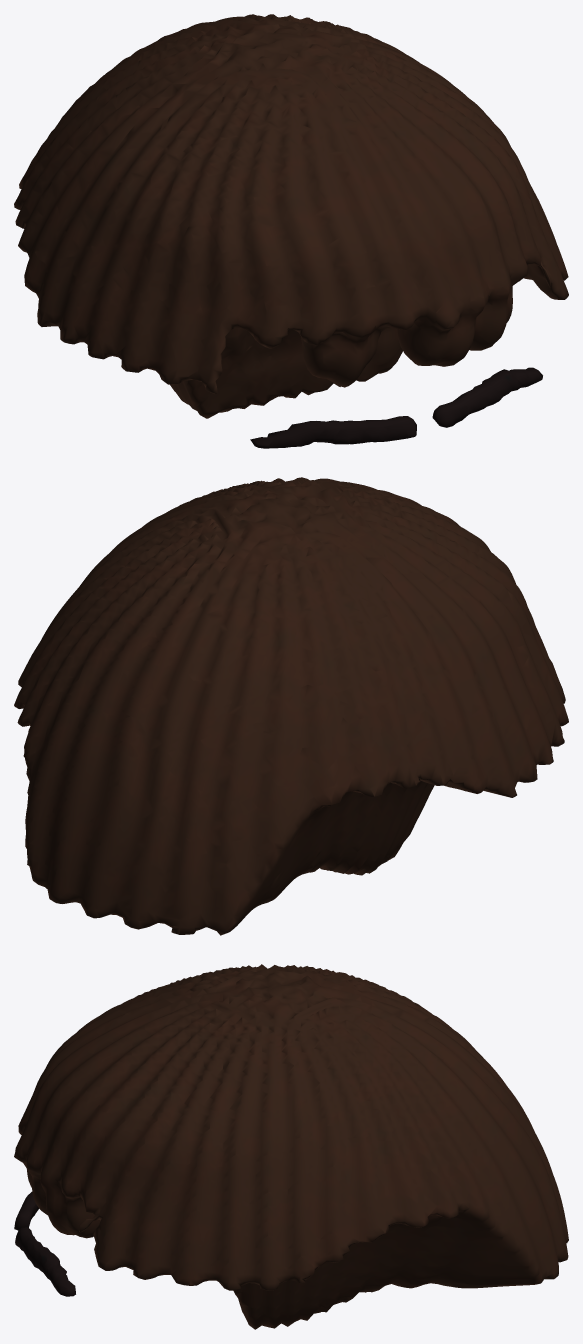
File: player_hair.glb
3 renders of one model, top to bottom at view 1: azimuth 30°, elevation 25°; view 2: azimuth 150°, elevation 25°; view 3: azimuth 270°, elevation 25°, orthographic. The views are drawn at different scales.
Parts seen in each view (by area): view 1: geometry_0; view 2: geometry_0; view 3: geometry_0.
Boxes of the visible parts, box(x1,y1,x2,y2) form: geometry_0: box(14, 14, 568, 448); geometry_0: box(14, 477, 568, 935); geometry_0: box(14, 964, 568, 1329).
Size of the model in its own units: 0.1496 by 0.1043 by 0.1709.
